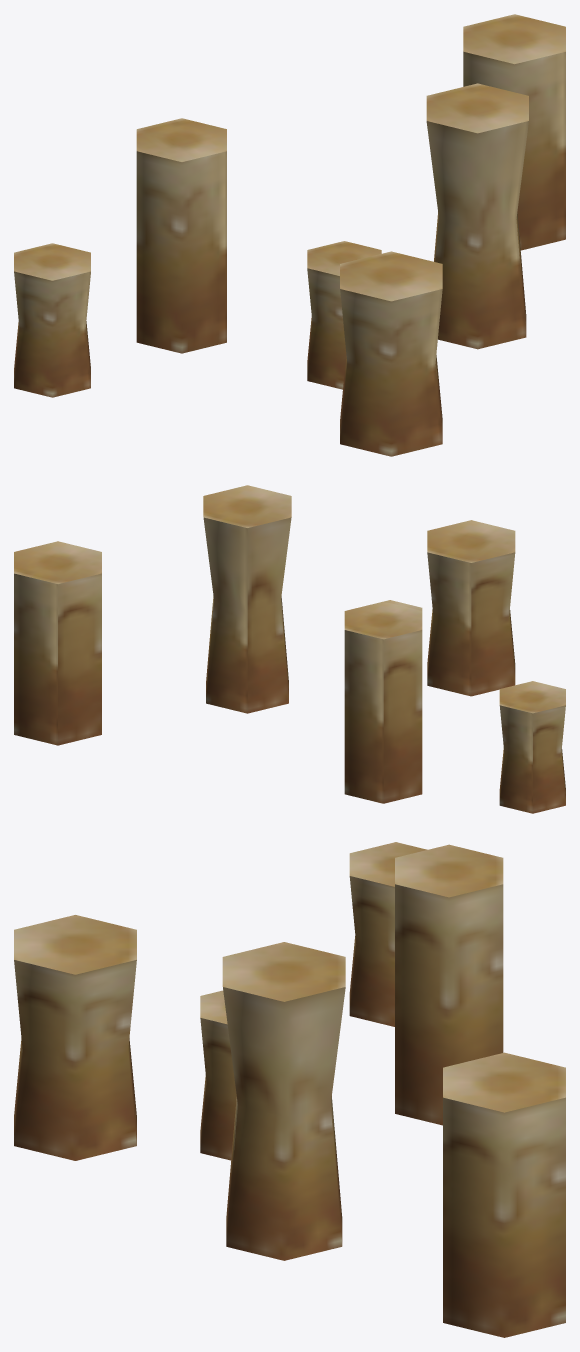
Rendered from Time limit_Light_01.FBX.
The picture shows the model from 3 angles, top to bottom: view 1: azimuth 30°, elevation 25°; view 2: azimuth 150°, elevation 25°; view 3: azimuth 270°, elevation 25°; orthographic projection. The views are drawn at different scales.
Parts seen in each view (by area): view 1: Time limit_Light_01; view 2: Time limit_Light_01; view 3: Time limit_Light_01.
Boxes of the visible parts, left/top/right/bottom form: Time limit_Light_01: left=14, top=14, right=565, bottom=456; Time limit_Light_01: left=14, top=485, right=565, bottom=813; Time limit_Light_01: left=14, top=842, right=565, bottom=1337.
Bounding box in the file's own units: 0.6834 × 0.2385 × 0.4561.
